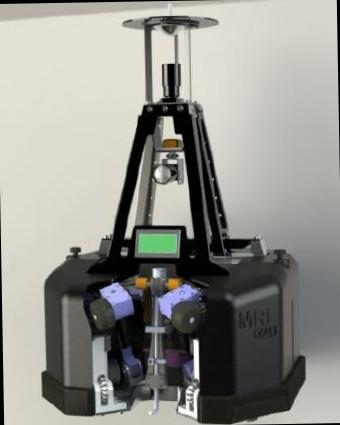robot: (41, 0, 306, 423)
